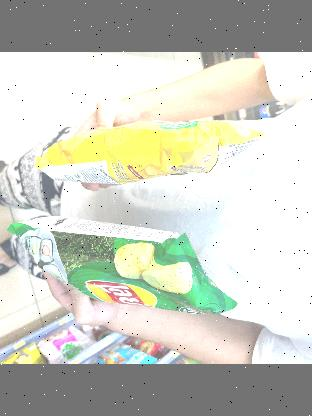Others: (10, 210, 238, 334), (33, 113, 268, 193)
